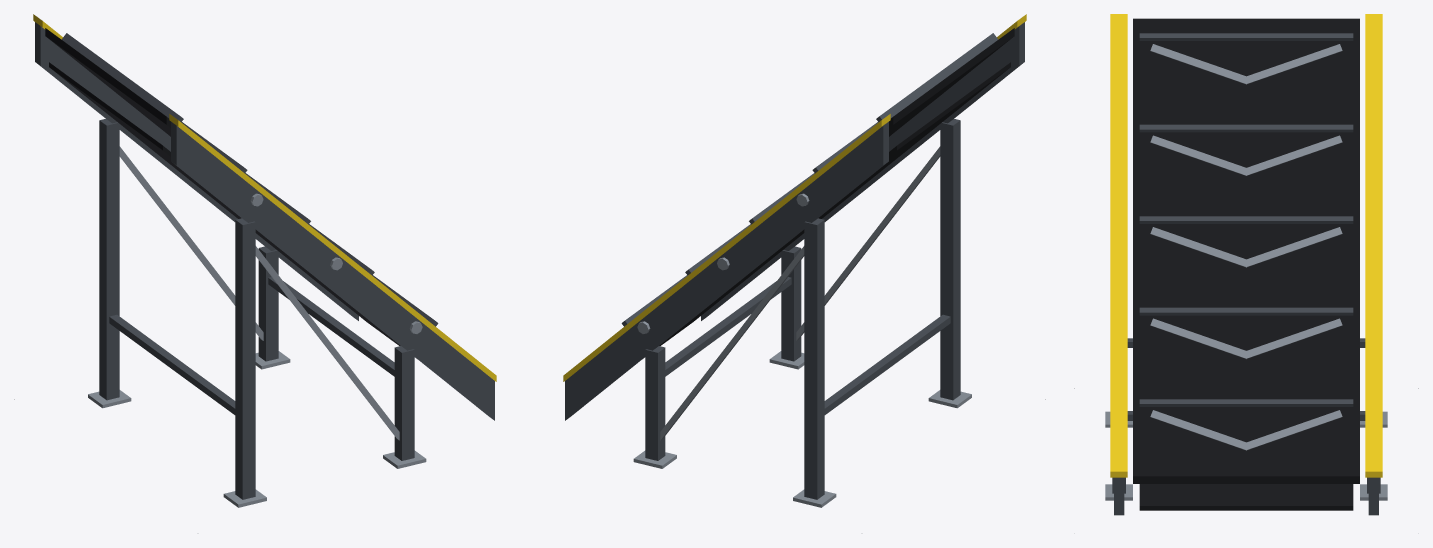
Rendered from convoyeur_rampe_descente_t1.glb.
3 views of the same model, side by side, from view 1: azimuth 30°, elevation 25°; view 2: azimuth 150°, elevation 25°; view 3: azimuth 270°, elevation 25° (orthographic). The views are drawn at different scales.
Parts seen in each view (by area): view 1: pieces_acier_sombre.022, longeron_-1.024, pieces_acier.054, longeron_1.024, rive_-1.024, bande_acier_sombre.004, tapis_retour.024, tapis_porteur.024; view 2: pieces_acier_sombre.022, longeron_1.024, pieces_acier.054, longeron_-1.024, rive_1.024, bande_acier_sombre.004, tapis_retour.024, tapis_porteur.024; view 3: tapis_porteur.024, bande_acier_sombre.004, bande_acier.048, rive_1.024, rive_-1.024, tapis_retour.024, pieces_acier.054, longeron_1.024, longeron_-1.024.
Part boxes in pixels (<box>): pieces_acier_sombre.022: <box>99,119,414,499</box>; longeron_-1.024: <box>171,121,494,420</box>; pieces_acier.054: <box>88,146,426,507</box>; longeron_1.024: <box>35,22,358,320</box>; rive_-1.024: <box>169,114,496,381</box>; bande_acier_sombre.004: <box>61,33,438,326</box>; tapis_retour.024: <box>49,62,416,358</box>; tapis_porteur.024: <box>45,28,170,136</box>; pieces_acier_sombre.022: <box>645,119,960,499</box>; longeron_1.024: <box>565,121,888,420</box>; pieces_acier.054: <box>633,146,971,507</box>; longeron_-1.024: <box>701,22,1024,320</box>; rive_1.024: <box>563,114,890,381</box>; bande_acier_sombre.004: <box>621,33,998,326</box>; tapis_retour.024: <box>643,62,1010,358</box>; tapis_porteur.024: <box>889,28,1014,136</box>; tapis_porteur.024: <box>1133,18,1359,483</box>; bande_acier_sombre.004: <box>1139,33,1353,406</box>; bande_acier.048: <box>1150,44,1342,450</box>; rive_1.024: <box>1365,14,1382,477</box>; rive_-1.024: <box>1110,14,1127,477</box>; tapis_retour.024: <box>1139,484,1353,510</box>; pieces_acier.054: <box>1105,411,1387,500</box>; longeron_1.024: <box>1368,477,1378,515</box>; longeron_-1.024: <box>1114,477,1124,515</box>.
Size of the model in its own units: 1 by 1.2 by 1.
